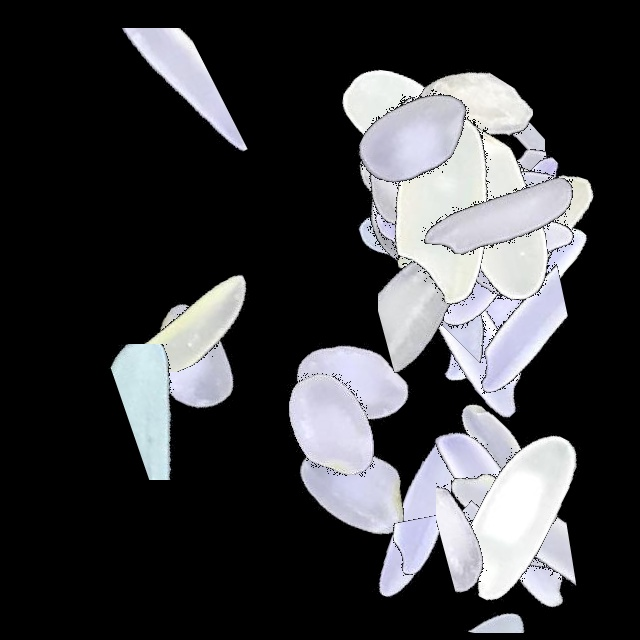Broken: (435, 70, 599, 320), (378, 175, 537, 425), (375, 18, 533, 268), (367, 474, 617, 629), (297, 6, 547, 158), (36, 222, 286, 372), (16, 28, 266, 173), (373, 254, 623, 394), (437, 72, 576, 322), (380, 496, 630, 634), (73, 344, 323, 480), (420, 38, 545, 288), (372, 485, 622, 610), (429, 164, 545, 414), (436, 390, 552, 640), (251, 109, 501, 224), (339, 179, 589, 290), (330, 133, 580, 243), (443, 64, 549, 314), (293, 184, 543, 288), (354, 535, 604, 633), (333, 512, 583, 599), (335, 172, 585, 255), (466, 166, 542, 416)
Full: (386, 175, 636, 425), (351, 102, 601, 352), (363, 163, 613, 413), (297, 390, 547, 640), (226, 359, 476, 609), (340, 205, 590, 455), (225, 261, 475, 511), (316, 109, 566, 359), (207, 298, 457, 548), (385, 361, 635, 611), (380, 390, 630, 640), (309, 66, 559, 316), (279, 67, 529, 317), (71, 235, 321, 485), (321, 43, 571, 293), (379, 119, 629, 369), (390, 390, 640, 640), (305, 68, 555, 318), (390, 116, 640, 366), (351, 104, 601, 354), (370, 68, 620, 318), (278, 38, 528, 288), (371, 85, 621, 335), (317, 81, 567, 331), (375, 88, 625, 338), (289, 10, 539, 260)
